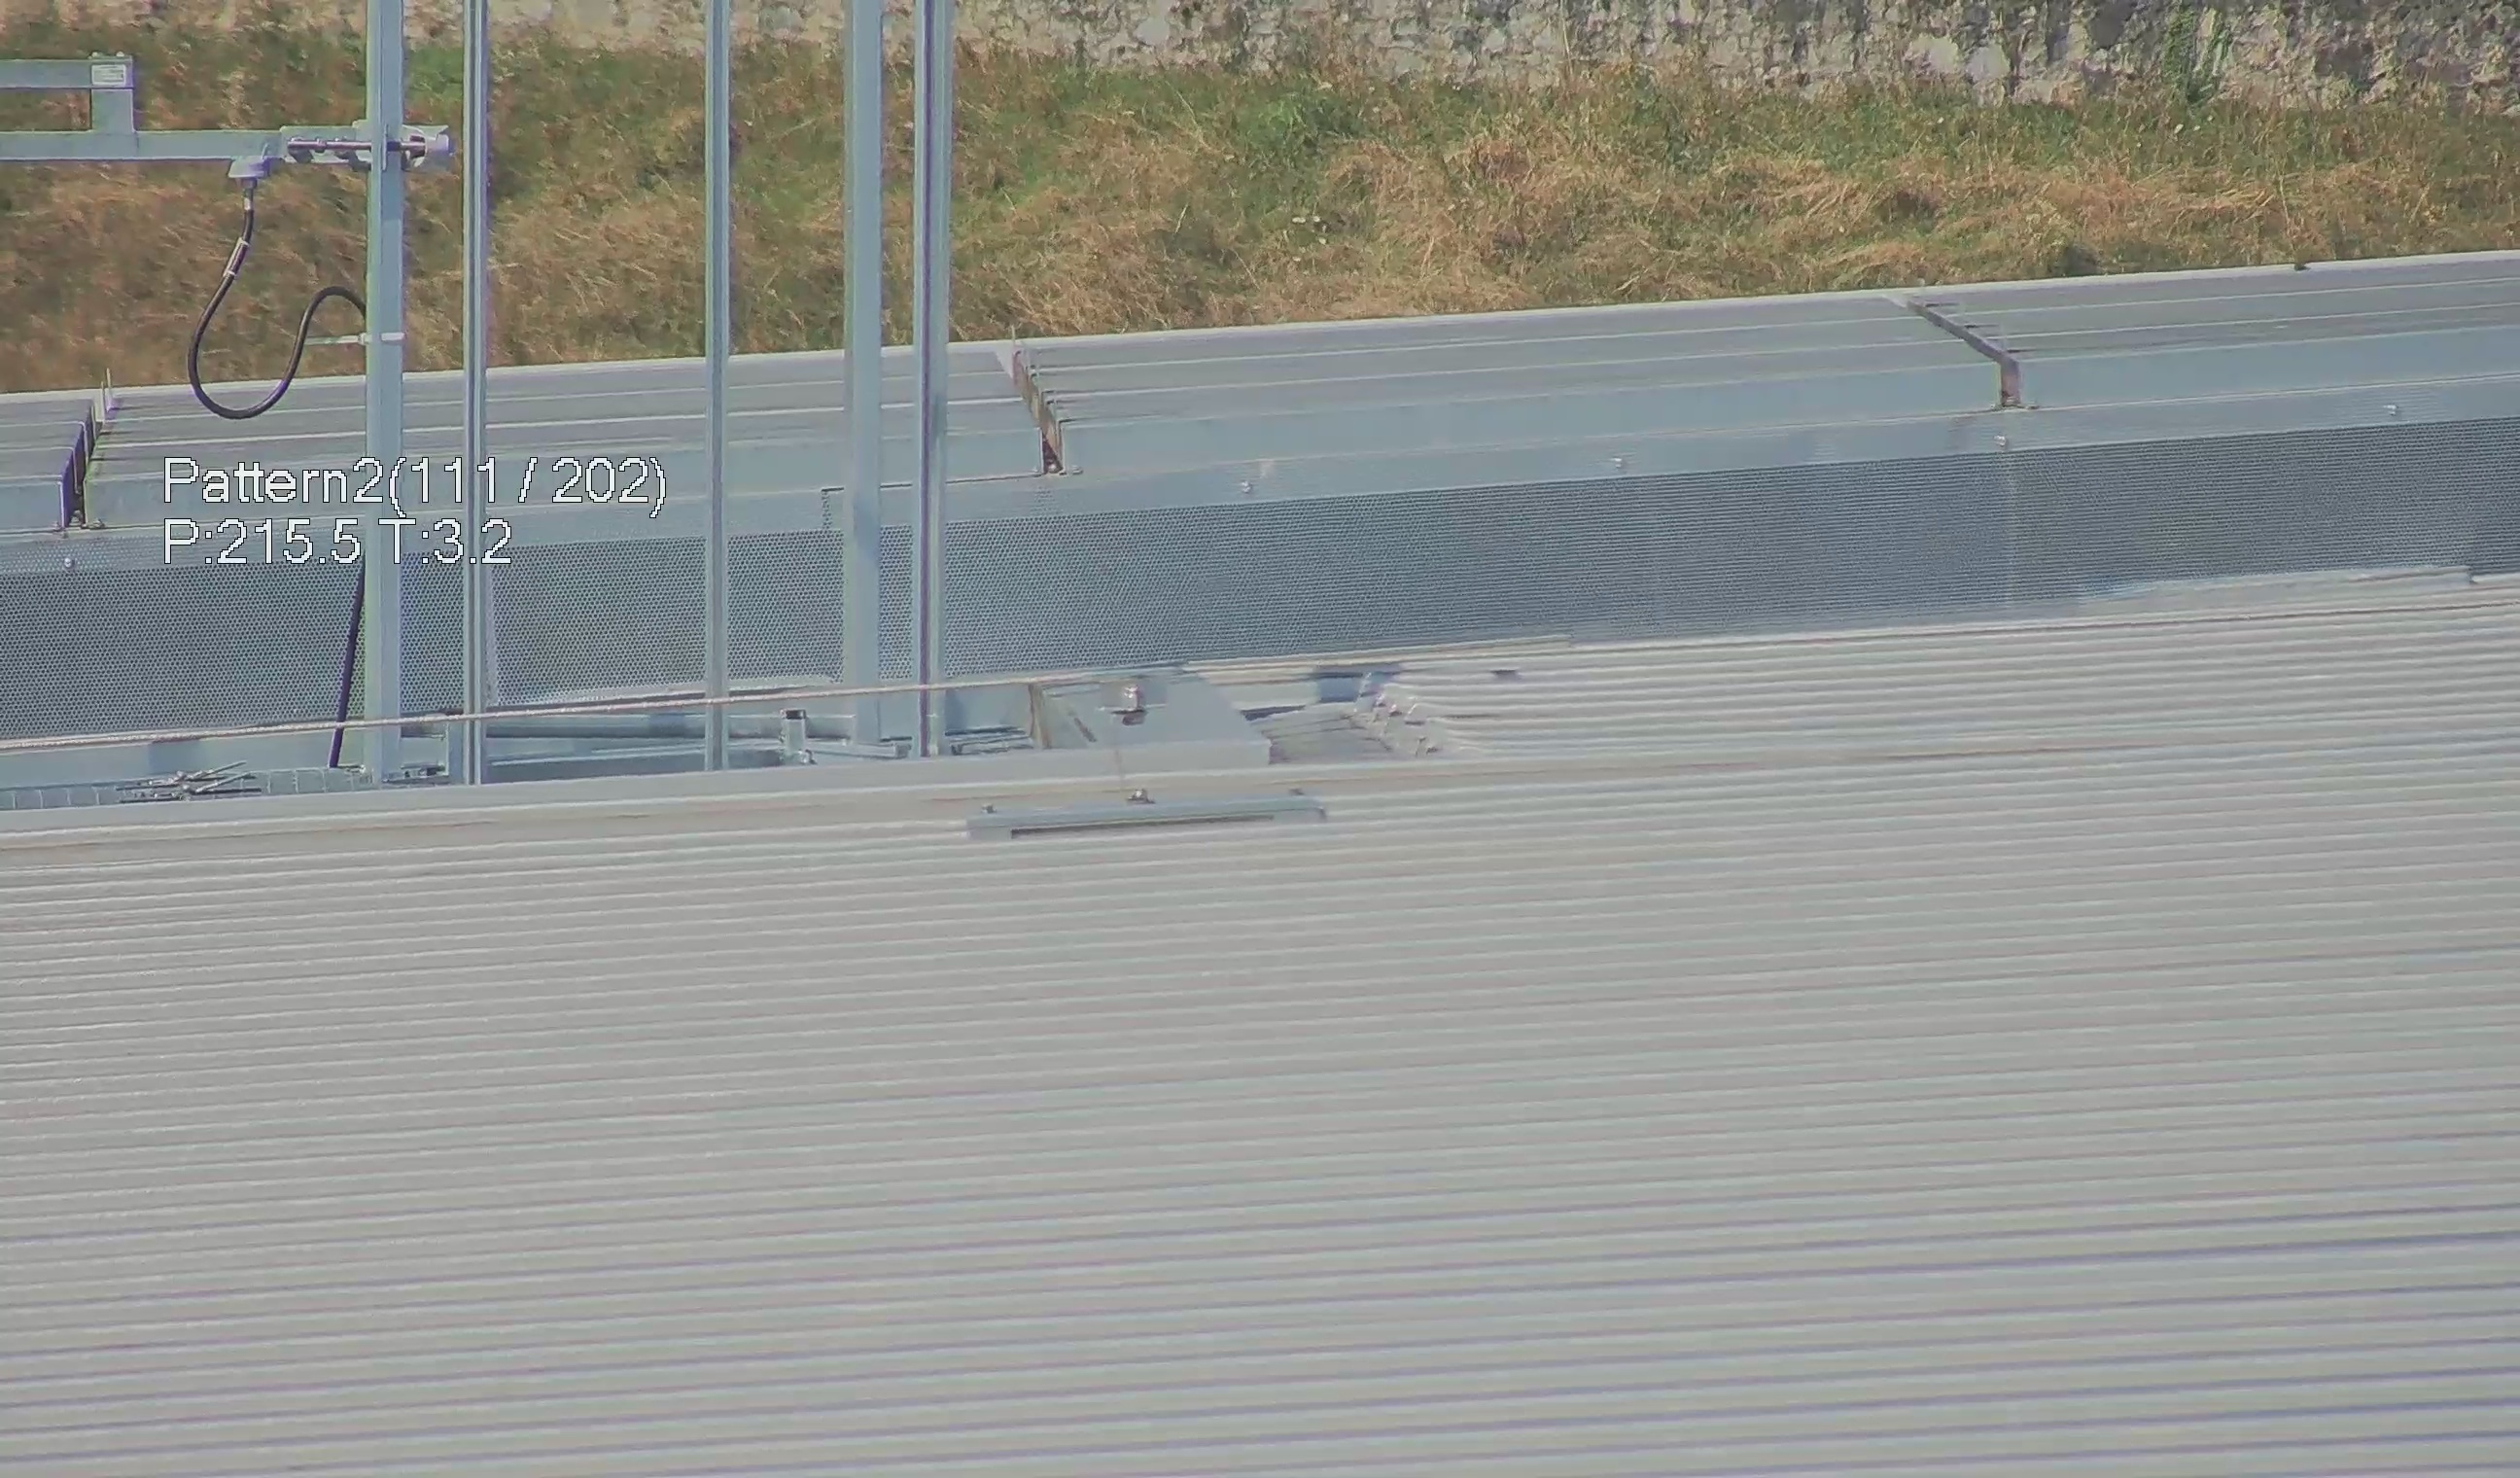Other: (990, 331, 1085, 470)
